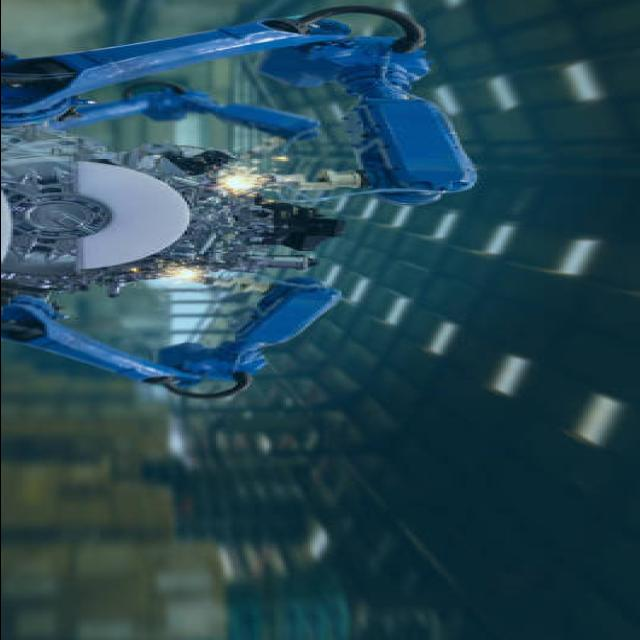Robotic-arm: (0, 5, 497, 203), (0, 280, 350, 406)
